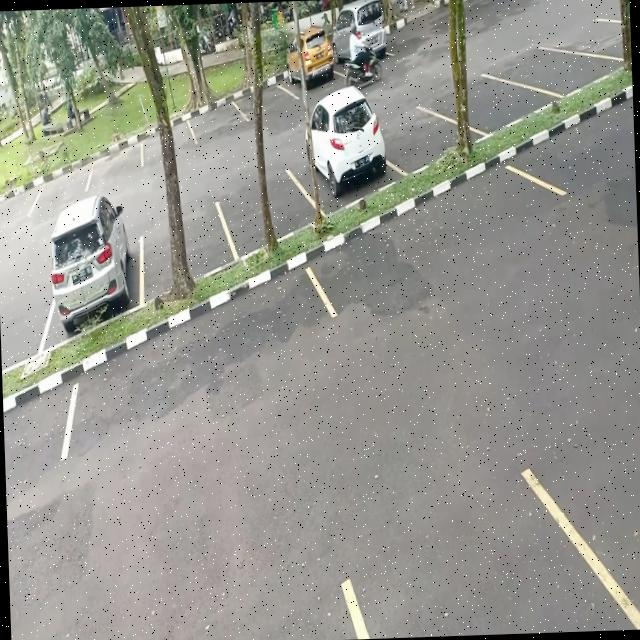empty: (223, 169, 311, 256), (138, 201, 228, 286), (387, 102, 455, 180), (524, 42, 606, 97), (468, 70, 535, 134), (87, 136, 144, 183), (139, 118, 194, 166), (36, 156, 94, 200), (191, 98, 242, 145), (240, 79, 290, 122)
occupied: (46, 230, 146, 334), (304, 108, 392, 210), (284, 46, 338, 98)
